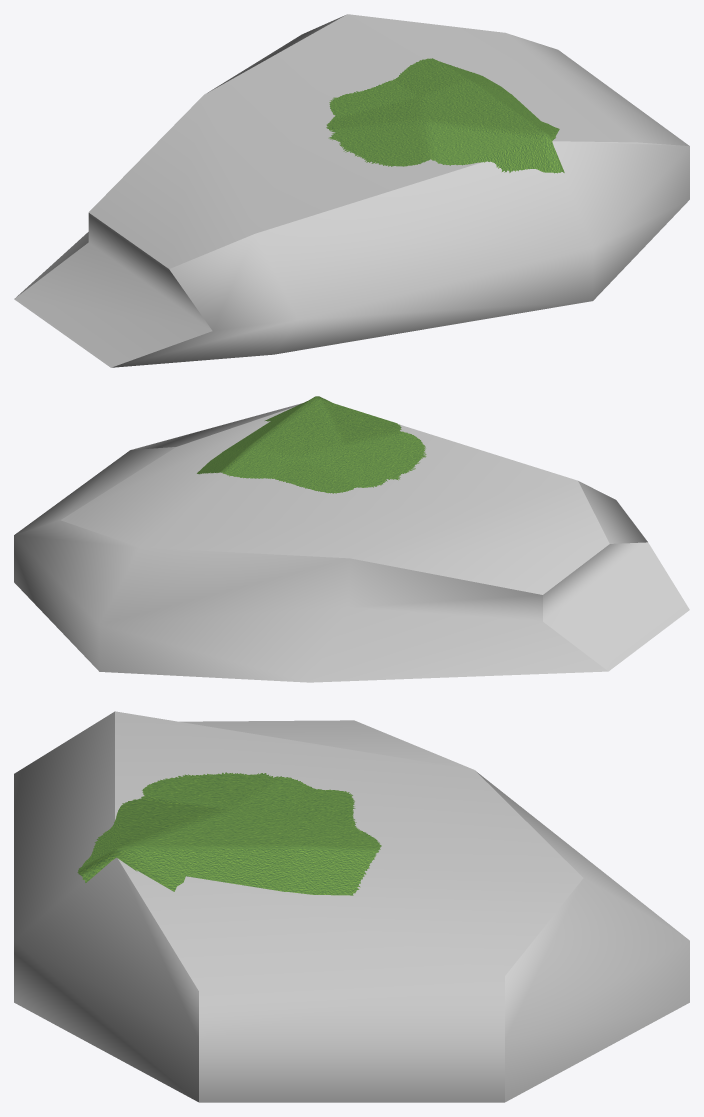
The model's file is beachRock1.fbx.
3 renders of one model, top to bottom at view 1: azimuth 30°, elevation 25°; view 2: azimuth 150°, elevation 25°; view 3: azimuth 270°, elevation 25°, orthographic. The views are drawn at different scales.
Visible parts, largest first — view 1: rock_geo, grassPlane; view 2: rock_geo, grassPlane; view 3: rock_geo, grassPlane.
Part boxes in pixels (x1=…): rock_geo: x1=14, y1=14, x2=689, y2=367; grassPlane: x1=326, y1=58, x2=564, y2=173; rock_geo: x1=14, y1=403, x2=689, y2=682; grassPlane: x1=197, y1=396, x2=426, y2=493; rock_geo: x1=14, y1=711, x2=689, y2=1102; grassPlane: x1=77, y1=772, x2=381, y2=895.
Bounding box in the file's own units: 4.97 × 1.03 × 4.11.
